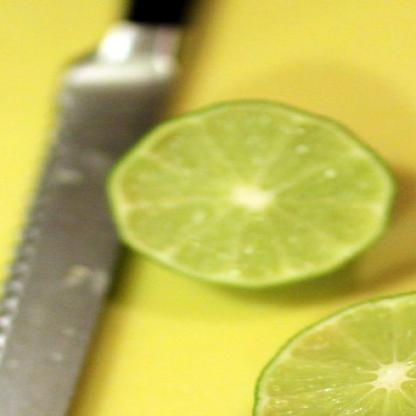knife: (0, 0, 254, 415)
